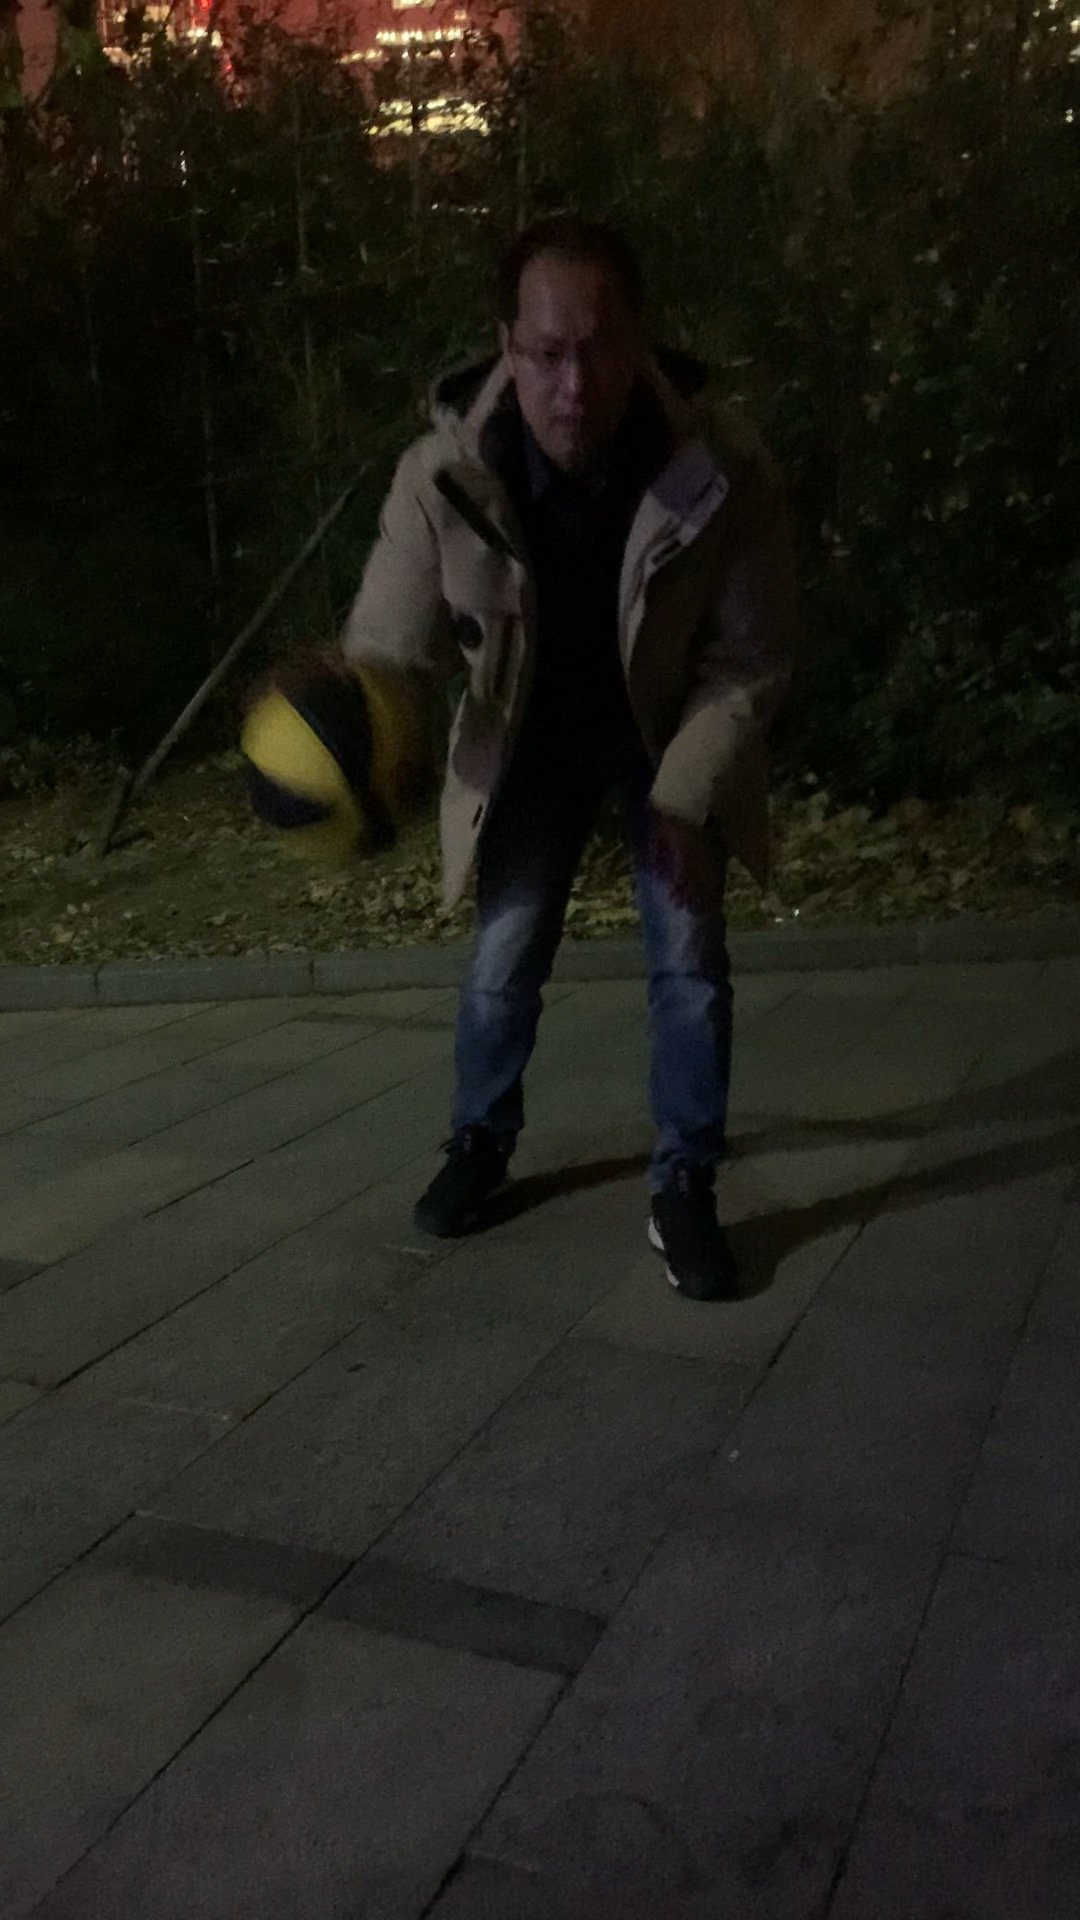ball: (237, 657, 435, 865)
